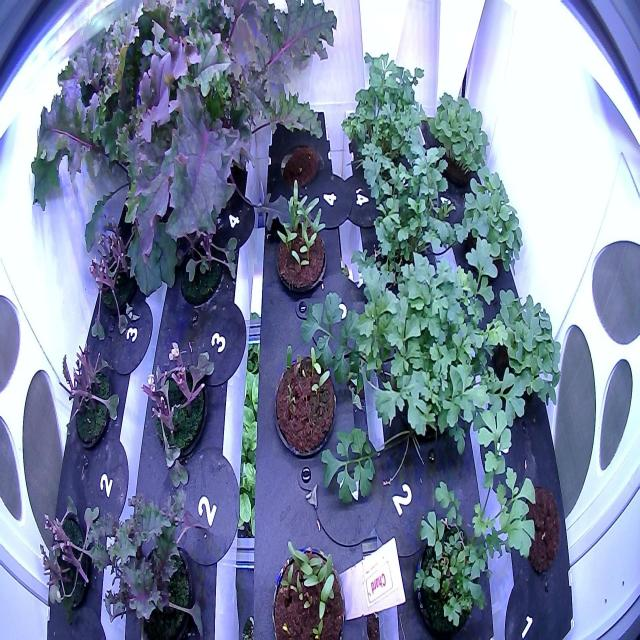germination: (268, 338, 344, 471), (262, 536, 350, 638), (264, 177, 331, 304)
pod: (515, 478, 562, 578), (275, 136, 326, 191)
